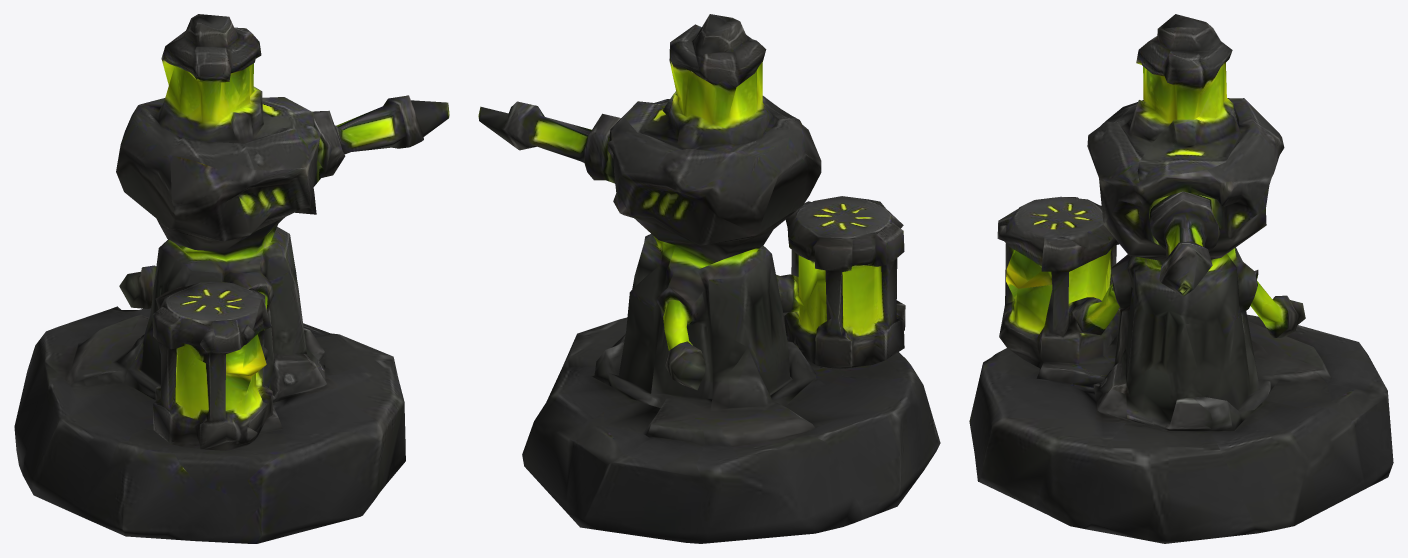
Rendered from poison-turret1.min.glb.
The picture shows the model from 3 angles, left to right: view 1: azimuth 30°, elevation 25°; view 2: azimuth 150°, elevation 25°; view 3: azimuth 270°, elevation 25°; orthographic projection.
Visible parts, largest first — view 1: tripo_node_e5737682-e6ac-4f4f-8d53-b910632c4766; view 2: tripo_node_e5737682-e6ac-4f4f-8d53-b910632c4766; view 3: tripo_node_e5737682-e6ac-4f4f-8d53-b910632c4766.
Boxes of the visible parts, x1,y1,x2,y2 form: tripo_node_e5737682-e6ac-4f4f-8d53-b910632c4766: [14, 14, 449, 543]; tripo_node_e5737682-e6ac-4f4f-8d53-b910632c4766: [478, 14, 940, 543]; tripo_node_e5737682-e6ac-4f4f-8d53-b910632c4766: [969, 14, 1393, 543].
Size of the model in its own units: 0.9942 by 0.9993 by 0.8754.
Materials: 1 (1 with a texture image).
